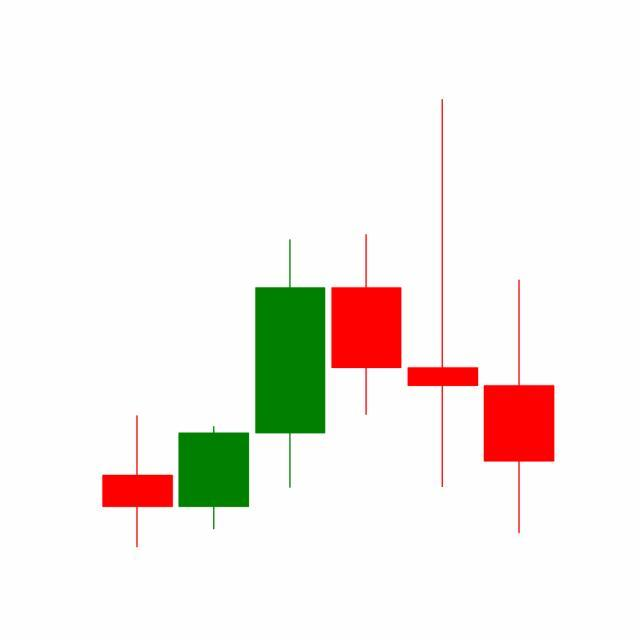Spinning Top: (404, 96, 482, 493)
